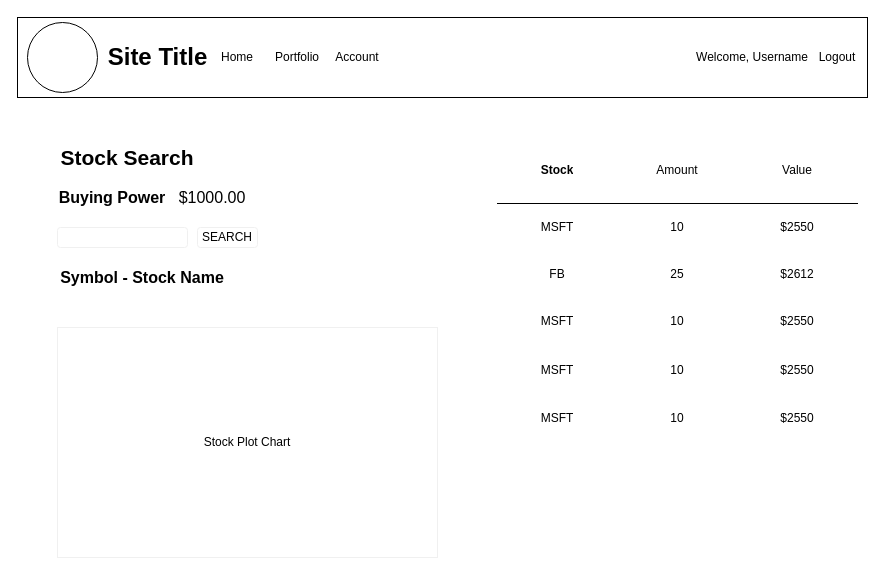
Image size: 885x575. Some labels were removed from this diagram. The shapes that lost their labels are listed below. From the top down, each one's box as (x1, y1, x2, y2) in pixels, then its label:
(26, 22, 98, 92): Logo
(56, 226, 188, 248): Search..
